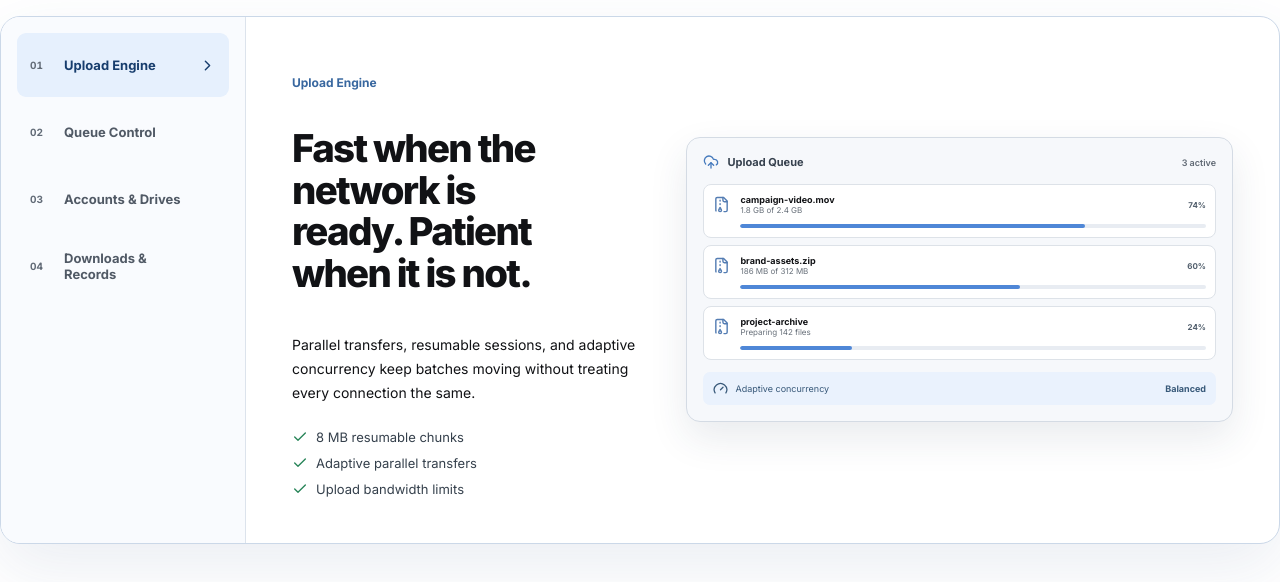
Test: feature explorer › switches panels and stores the selected feature in the URL
Click the tab "02 Queue Control".
click(123, 132)  # box [17,100,229,164]
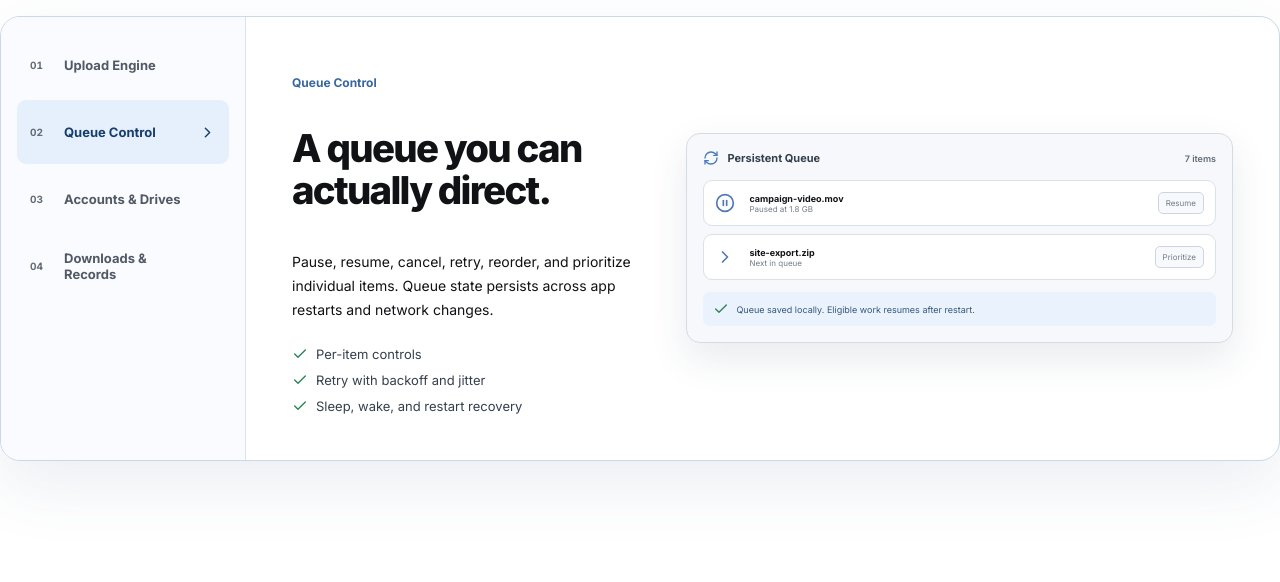
Expected: the heading "A queue you can actually direct." is shown, [292,125,582,213]
